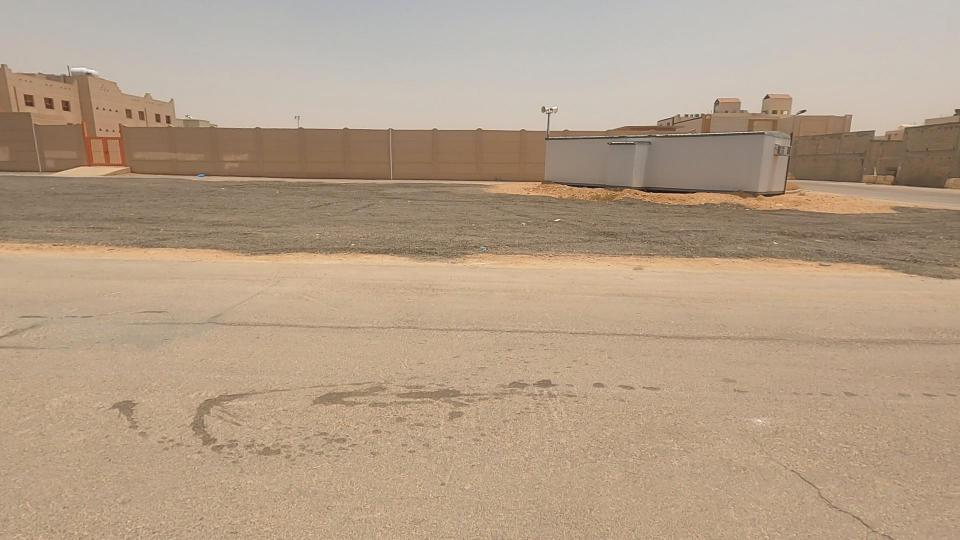GARBAGE: (176, 160, 226, 198)
